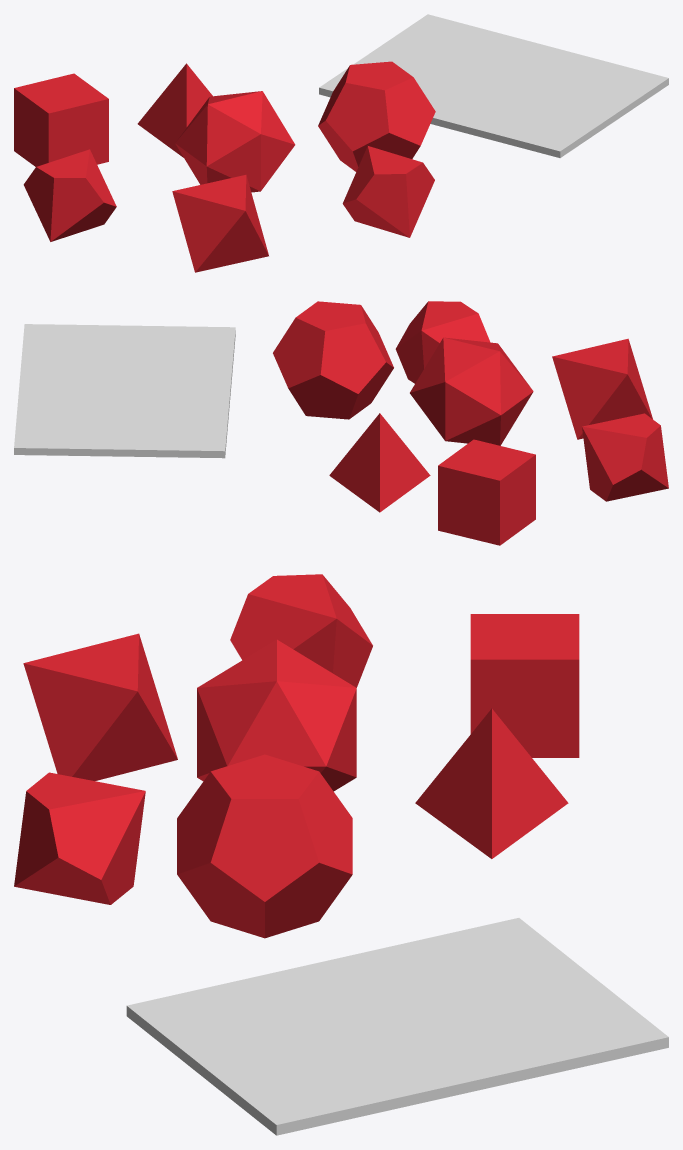
The model's file is dice_red.glb.
The picture shows the model from 3 angles, top to bottom: view 1: azimuth 30°, elevation 25°; view 2: azimuth 150°, elevation 25°; view 3: azimuth 270°, elevation 25°; orthographic projection. The views are drawn at different scales.
Parts seen in each view (by area): view 1: Cube; view 2: Cube; view 3: Cube.
Boxes of the visible parts, box(x1,y1,x2,y2) form: Cube: box(14, 14, 668, 272); Cube: box(14, 301, 668, 545); Cube: box(14, 574, 668, 1135).
Size of the model in its own units: 11.92 by 1.85 by 6.97.
